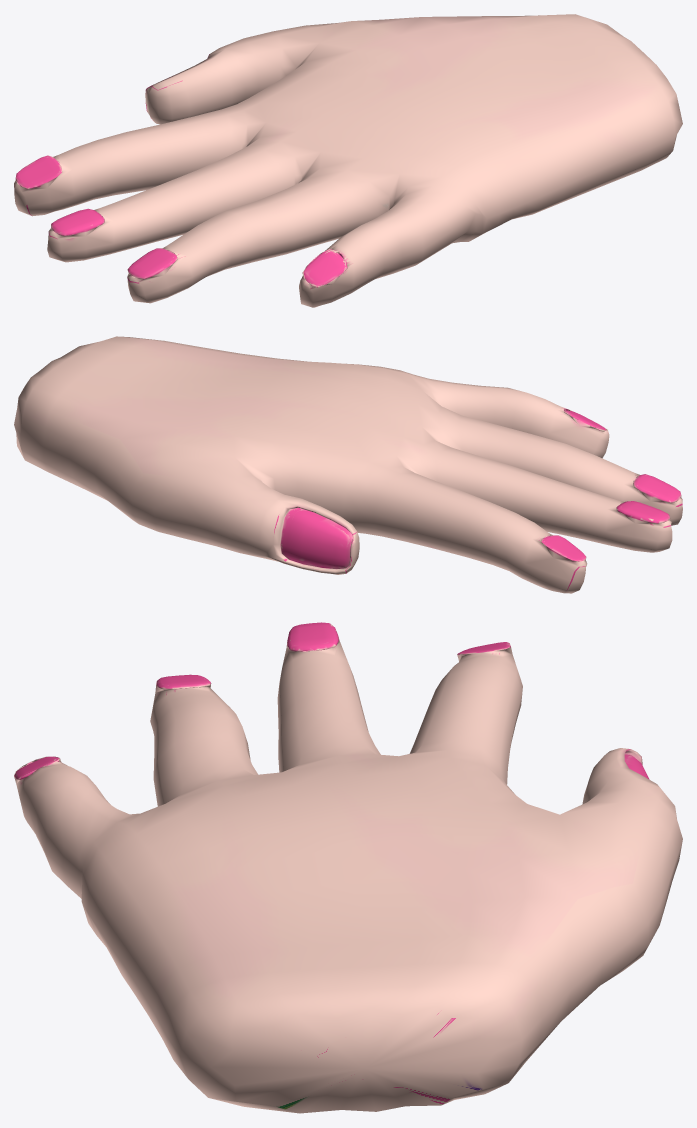
File: leftHand.fbx
3 renders of one model, top to bottom at view 1: azimuth 30°, elevation 25°; view 2: azimuth 150°, elevation 25°; view 3: azimuth 270°, elevation 25°, orthographic. The views are drawn at different scales.
Visible parts, largest first — view 1: Cube; view 2: Cube; view 3: Cube.
Boxes of the visible parts, left/top/right/bottom form: Cube: left=14, top=14, right=682, bottom=307; Cube: left=14, top=336, right=682, bottom=593; Cube: left=14, top=622, right=682, bottom=1113.
Size of the model in its own units: 392 by 57.63 by 253.
Materials: 1 (1 with a texture image).
